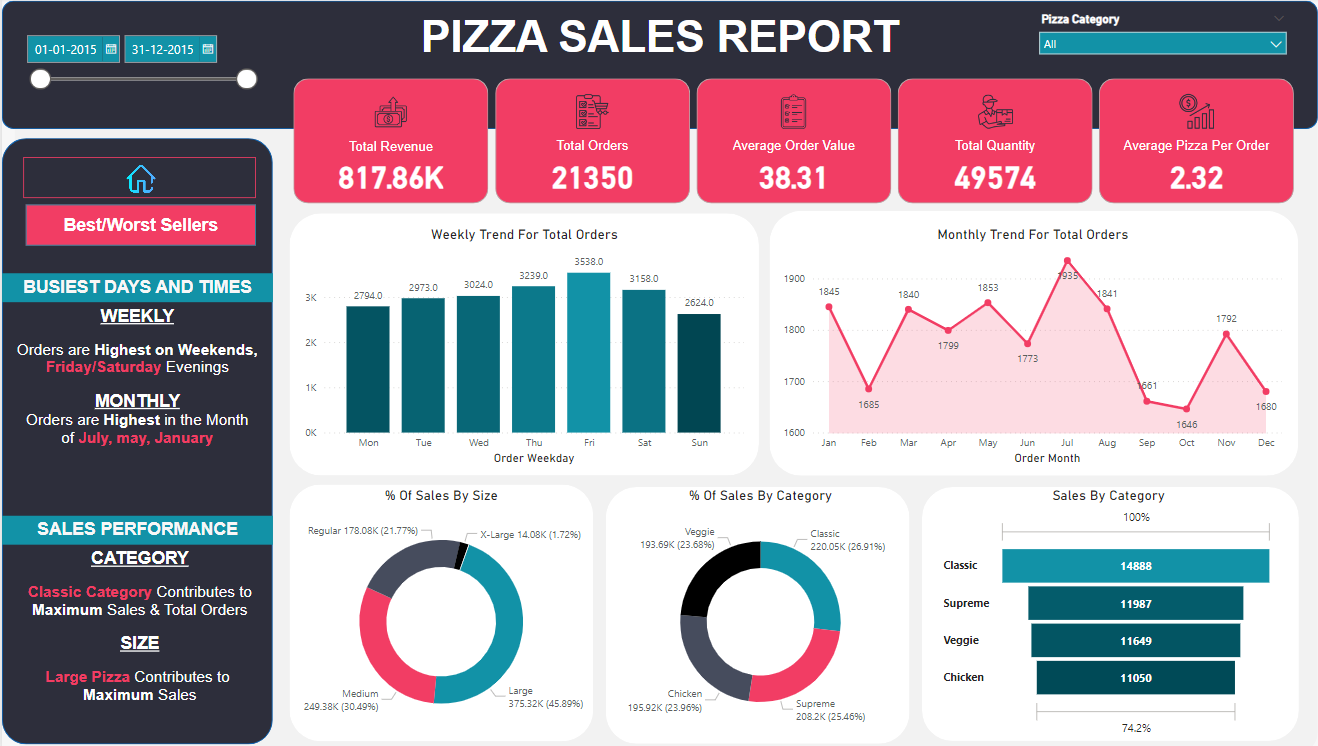

The page's visual inventory and layout, read from the dashboard file:
{"tool":"powerbi","page":{"name":"Home","canvas":[1600,920],"ordinal":0},"visuals":[{"type":"shape","box":[15.1,87.3,1585.6,833.1],"z":0},{"type":"shape","box":[349.4,592.9,369.5,312.4],"z":1000},{"type":"shape","box":[1118.6,596.3,458.5,309.1],"z":2000},{"type":"shape","box":[0,5.1,1600.7,156],"z":3000},{"type":"cardVisual","fields":{"Data":["pizza_sales.Total Revenue","pizza_sales.Total Orders","pizza_sales.Average Order Value","pizza_sales.Total Quantity","pizza_sales.Average Pizza Per Order"]},"box":[349.4,94.1,1227.8,162.9],"z":4000},{"type":"textbox","box":[493.5,13.4,613.1,82.3],"z":5000},{"type":"shape","box":[349.4,263.7,571.1,319.1],"z":6000},{"type":"clusteredColumnChart","title":"Weekly Trend For Total Orders","fields":{"Y":["pizza_sales.Total Orders"],"Category":["pizza_sales.Order Weekday"]},"box":[362.8,277.6,544.2,295.6],"z":7000},{"type":"shape","box":[933.9,260.3,643.3,322.5],"z":8000},{"type":"areaChart","title":"Monthly Trend For Total Orders","fields":{"Category":["pizza_sales.Order Month"],"Y":["pizza_sales.Total Orders"]},"box":[945.6,277.6,616.4,295.6],"z":9000},{"type":"shape","box":[734,596.3,369.5,312.4],"z":10000},{"type":"donutChart","title":"% Of Sales By Category","fields":{"Category":["pizza_sales.pizza_category"],"Y":["pizza_sales.Total Revenue"]},"box":[747.4,596.3,349.4,309.1],"z":11000},{"type":"funnel","title":"Sales By Category","fields":{"Category":["pizza_sales.pizza_category"],"Y":["pizza_sales.Total Quantity"]},"box":[1140.5,596.3,411.5,309.1],"z":12000},{"type":"donutChart","title":"% Of Sales By Size","fields":{"Category":["pizza_sales.pizza_size"],"Y":["pizza_sales.Total Revenue"]},"box":[349.4,596.3,369.5,309.1],"z":13000},{"type":"shape","box":[0,171.3,329.2,737.4],"z":14000},{"type":"textbox","box":[0,631.5,329.2,35.3],"z":15000},{"type":"textbox","box":[3.4,666.4,329.2,253.6],"z":16000},{"type":"textbox","box":[0,336.1,329.2,35.3],"z":17000},{"type":"textbox","box":[0,371.2,329.2,257],"z":18000},{"type":"slicer","fields":{"Values":["pizza_sales.pizza_category"]},"box":[1251.3,13.4,320.8,70.5],"z":19000},{"type":"slicer","fields":{"Values":["pizza_sales.order_date"]},"box":[18.5,37,300.7,90.7],"z":20000},{"type":"pageNavigator","box":[25.2,194.8,283.9,50.4],"z":21000},{"type":"pageNavigator","box":[28.6,251.9,280.5,50.4],"z":22000},{"type":"image","box":[146,197.2,45.5,45.5],"z":22001}]}

Visuals, with their boxes in screenshot pixels (x1, y1, x2, y2), scaled from the page's 1600x920 canvas onto the 1318x746 screenshot:
shape: box(12, 71, 1317, 745)
shape: box(288, 481, 592, 734)
shape: box(921, 484, 1299, 734)
shape: box(0, 4, 1317, 131)
cardVisual - pizza_sales.Total Revenue x pizza_sales.Total Orders: box(288, 76, 1299, 208)
textbox: box(407, 11, 912, 78)
shape: box(288, 214, 758, 473)
"Weekly Trend For Total Orders" clusteredColumnChart: box(299, 225, 747, 465)
shape: box(769, 211, 1299, 473)
"Monthly Trend For Total Orders" areaChart: box(779, 225, 1287, 465)
shape: box(605, 484, 909, 737)
"% Of Sales By Category" donutChart: box(616, 484, 903, 734)
"Sales By Category" funnel: box(939, 484, 1278, 734)
"% Of Sales By Size" donutChart: box(288, 484, 592, 734)
shape: box(0, 139, 271, 737)
textbox: box(0, 512, 271, 541)
textbox: box(3, 540, 274, 745)
textbox: box(0, 273, 271, 301)
textbox: box(0, 301, 271, 509)
slicer - pizza_sales.pizza_category: box(1031, 11, 1295, 68)
slicer - pizza_sales.order_date: box(15, 30, 263, 104)
pageNavigator: box(21, 158, 255, 199)
pageNavigator: box(24, 204, 255, 245)
image: box(120, 160, 158, 197)
